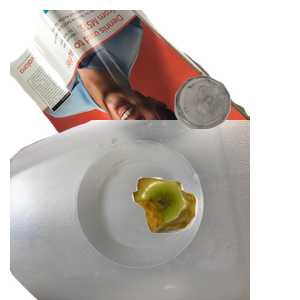glass: (172, 73, 300, 195)
paper: (10, 10, 250, 190)
plastic: (10, 120, 250, 300)
trash: (130, 175, 300, 300)
